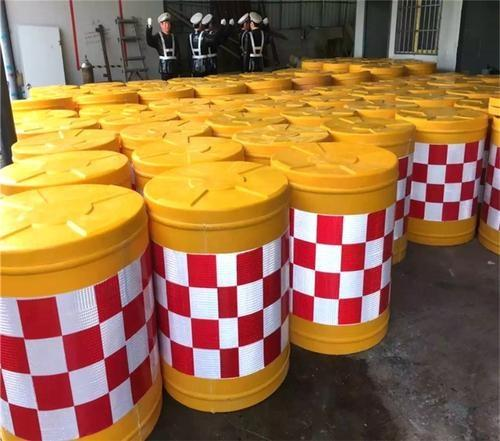cone_barrel: (150, 164, 288, 413), (286, 140, 400, 357), (404, 108, 491, 245)
